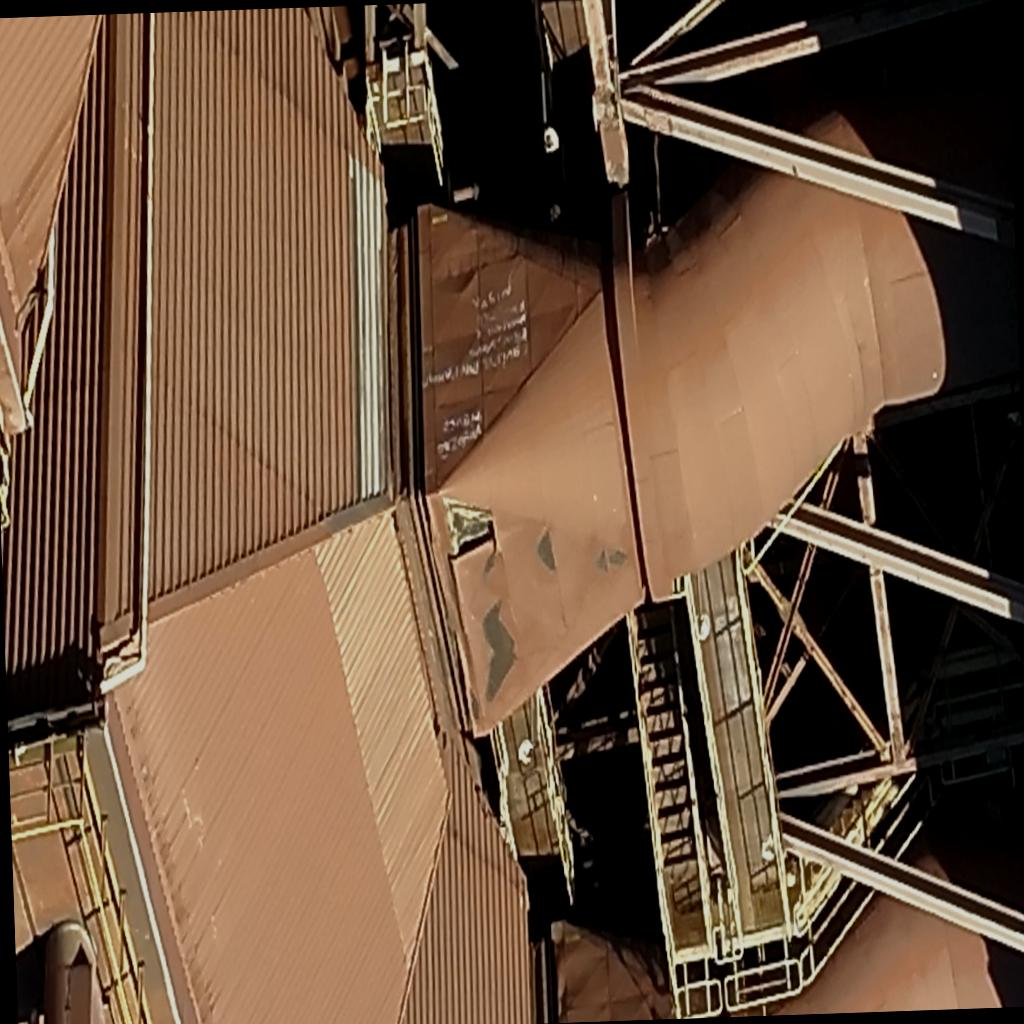Failures: (438, 495, 504, 568)
